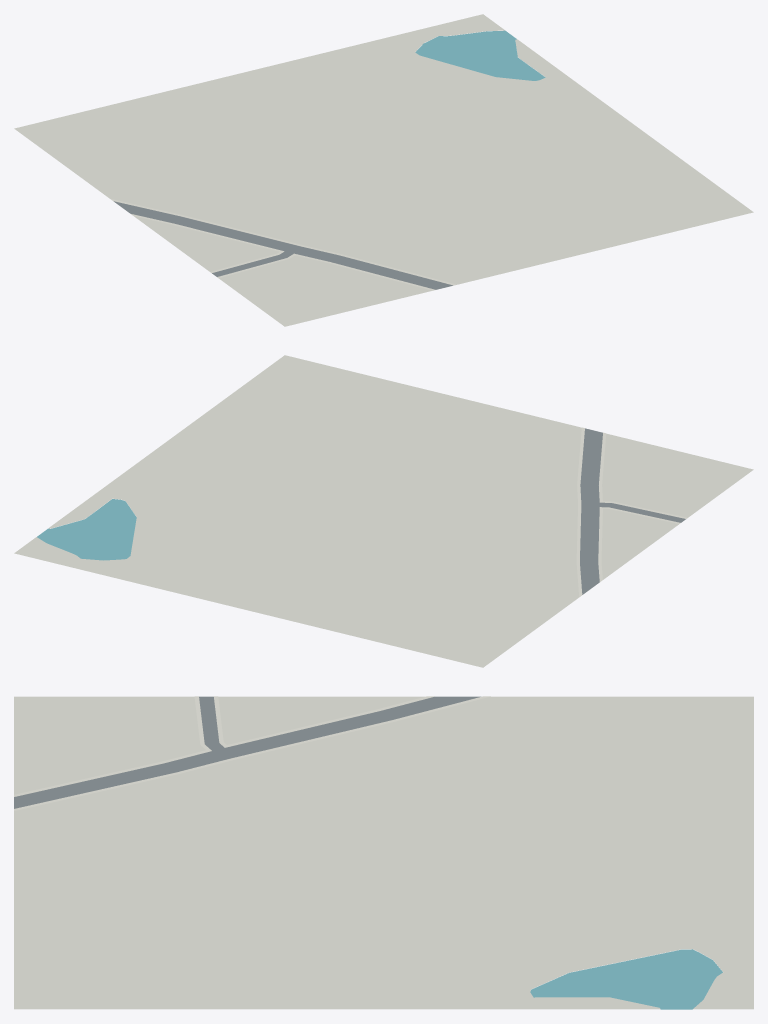
3 views of the same model, one above another, from view 1: azimuth 30°, elevation 25°; view 2: azimuth 150°, elevation 25°; view 3: azimuth 270°, elevation 25° (orthographic). The views are drawn at different scales.
Parts seen in each view (by area): view 1: city; view 2: city; view 3: city.
Boxes of the visible parts, box(x1,y1,x2,y2) form: city: box(14, 14, 753, 326); city: box(14, 355, 753, 667); city: box(14, 696, 753, 1009).
Bounding box in the file's own units: 500 × 0.4 × 500.
